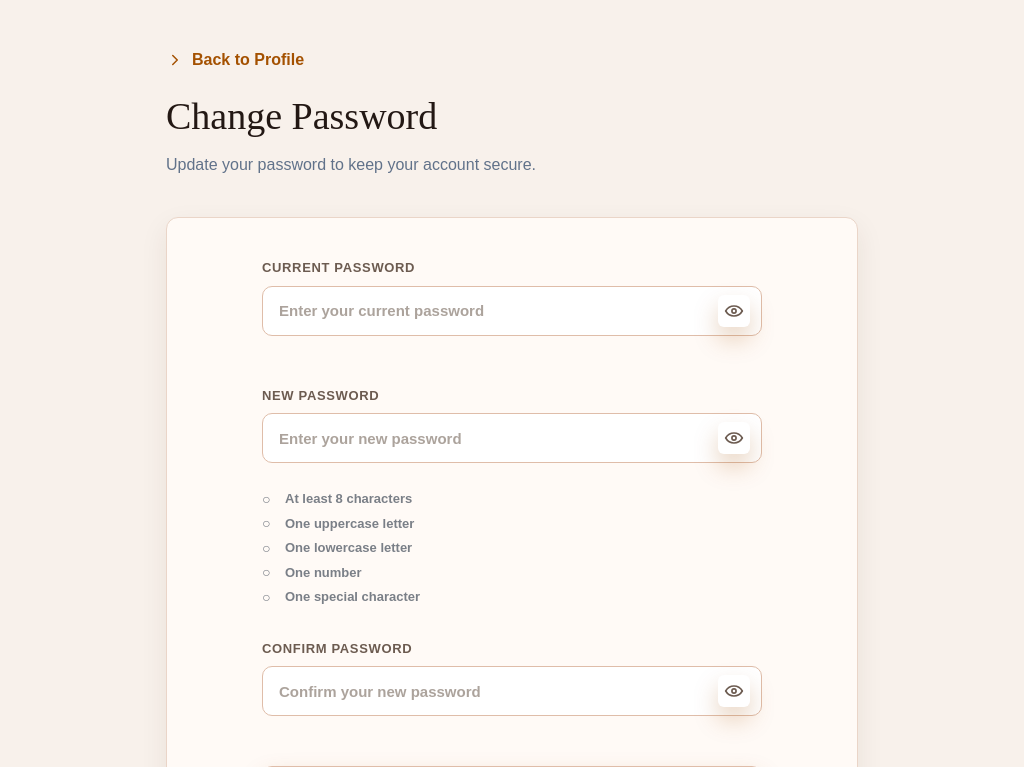
Test: blocks matching-current and mismatched confirmation values
The width and height of the screenshot is (1024, 767).
Type "Current1!" into the password field with placeholder "Enter your current password". click: (512, 310)
box: top-left (262, 286), bottom-right (762, 336)
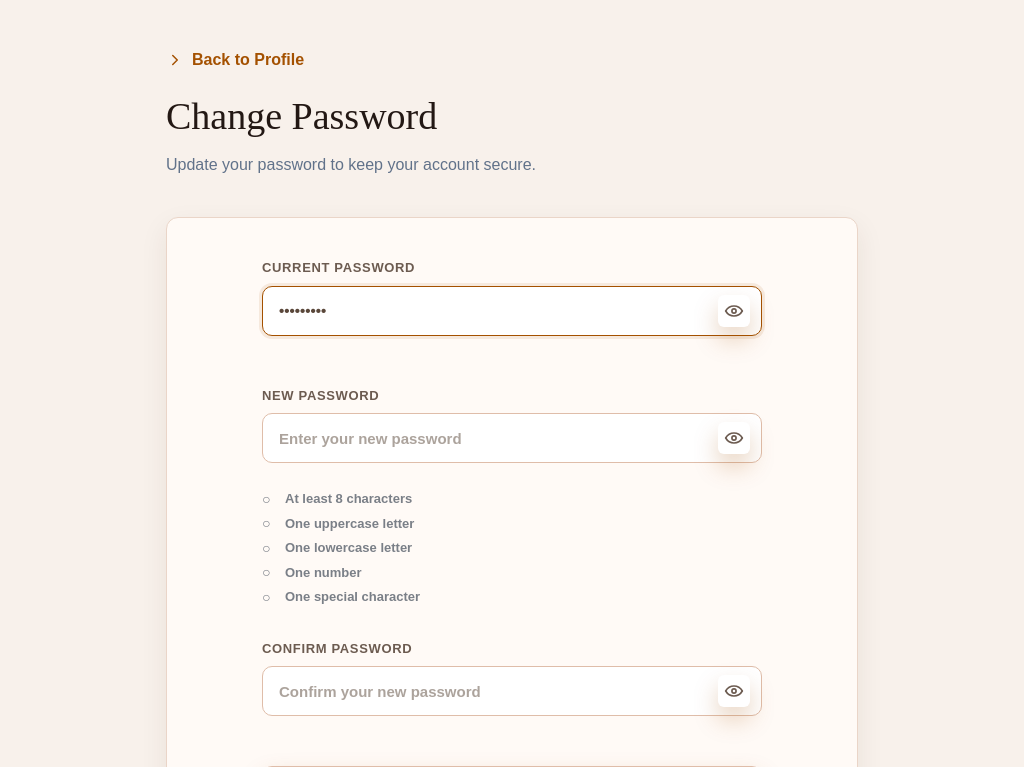
Type "Current1!" into the password field with placeholder "Enter your new password". click: (512, 438)
box: top-left (262, 413), bottom-right (762, 463)
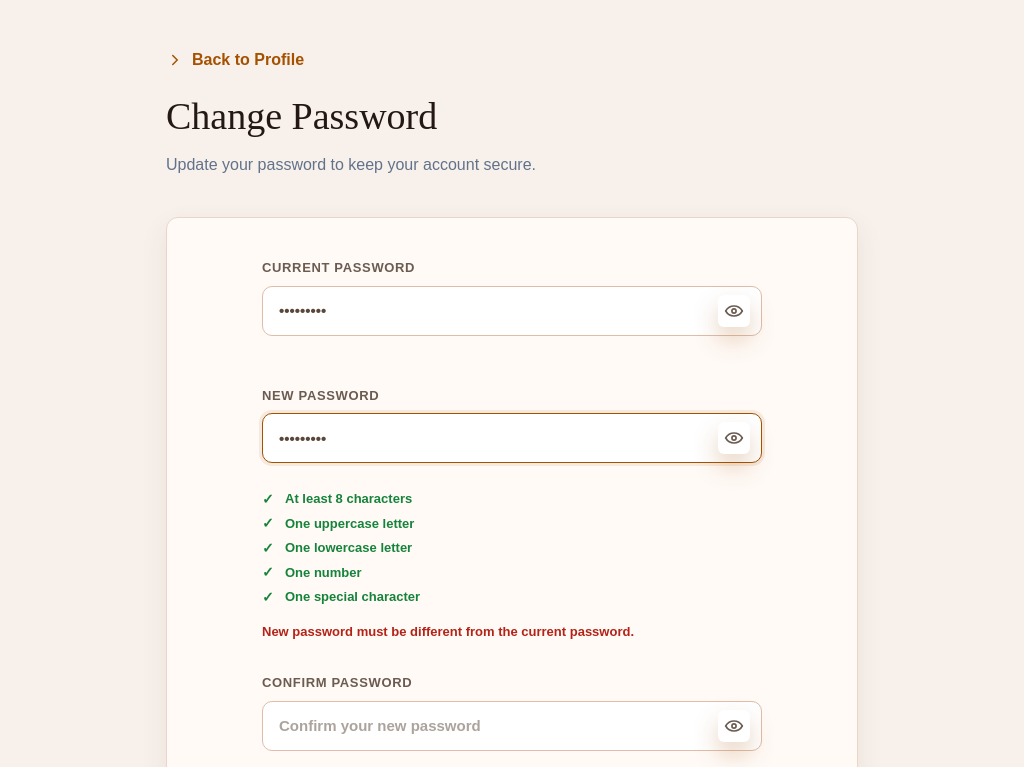
Type "Different2@" into the password field with placeholder "Confirm your new password". click: (512, 726)
box: top-left (262, 701), bottom-right (762, 751)
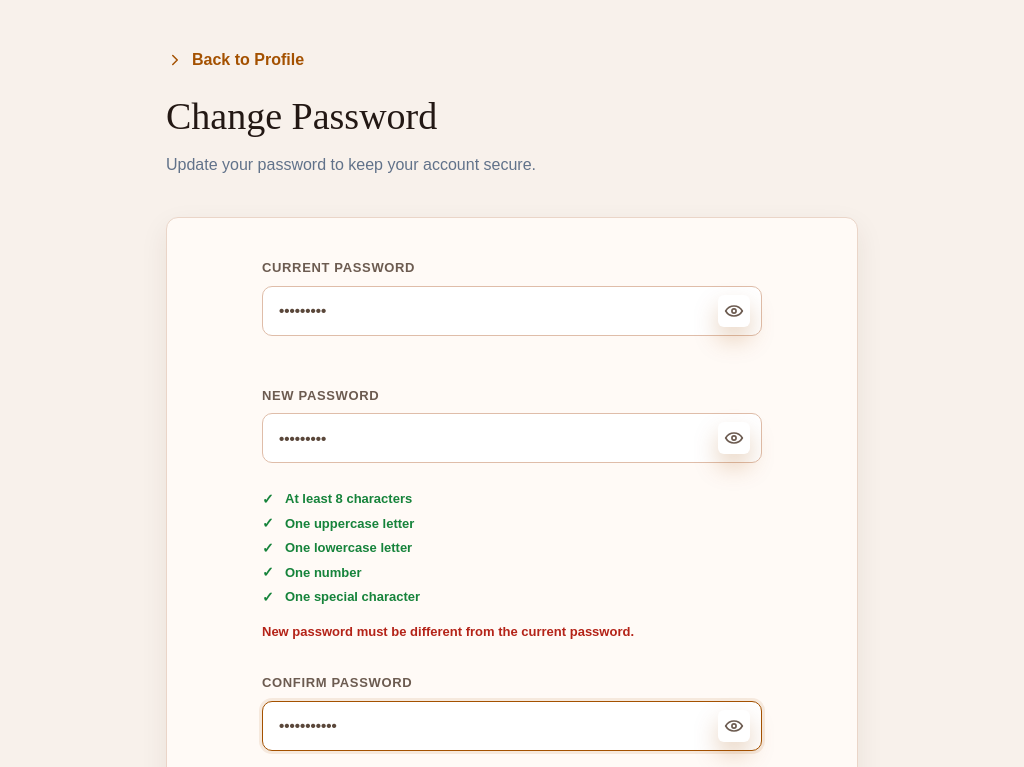
Expected: the text "New password must be different from the current password." is shown, top-left (262, 624), bottom-right (634, 638)
Type "NewStrong2@" into the password field with placeholder "Enter your new password". click: (512, 438)
box: top-left (262, 413), bottom-right (762, 463)
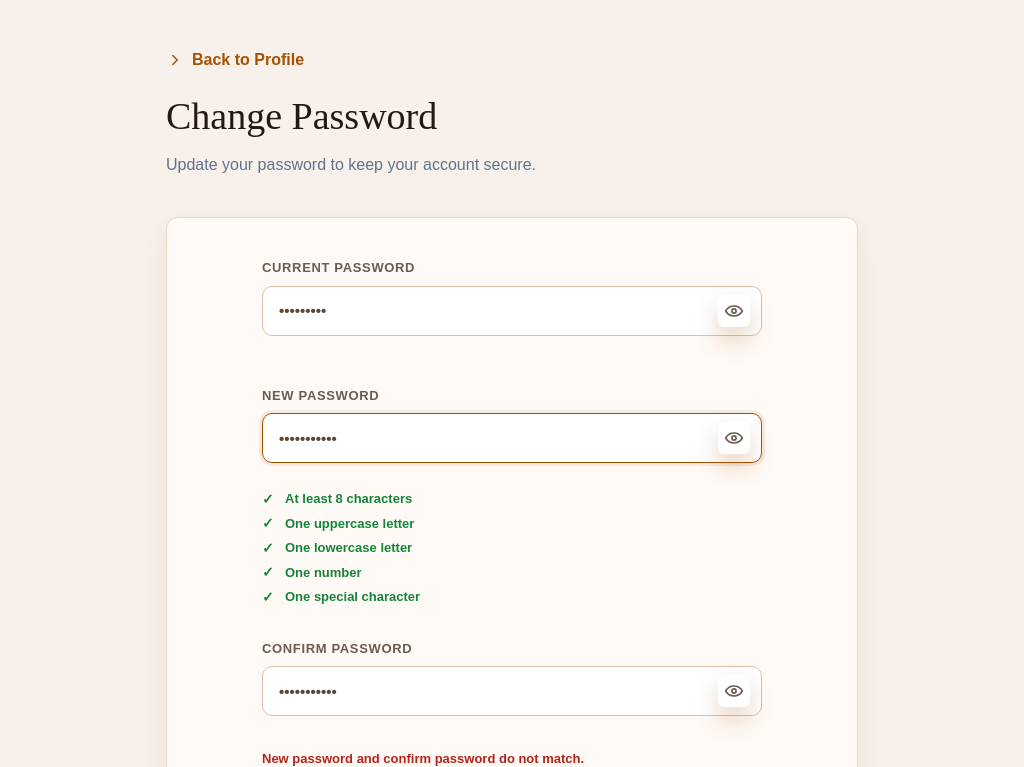
Type "NewStrong2@" into the password field with placeholder "Confirm your new password". click: (512, 691)
box: top-left (262, 666), bottom-right (762, 716)
(page scrolled)
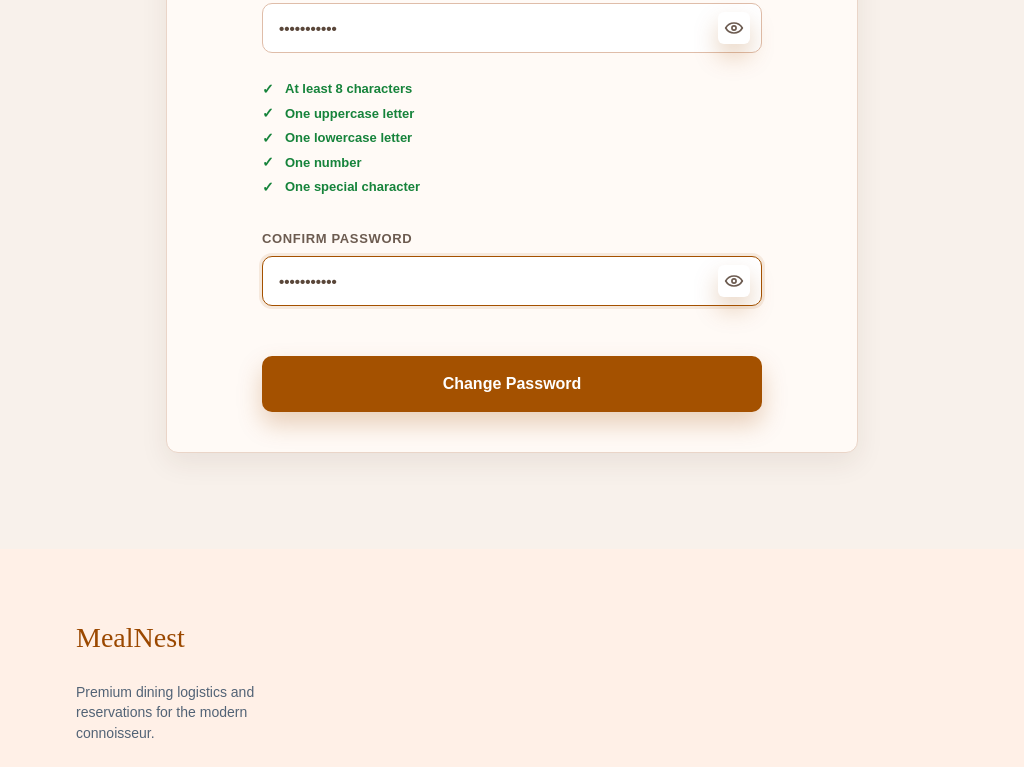
Expected: the text "New password must be different from the current password." is not shown
Expected: the button "Change Password" is enabled, top-left (262, 356), bottom-right (762, 412)
